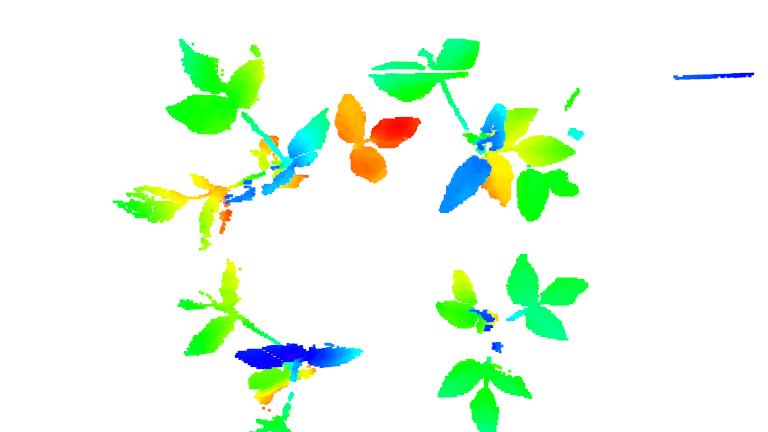mungbean: (108, 34, 418, 254), (367, 35, 583, 222), (176, 257, 366, 432), (434, 251, 594, 432)
